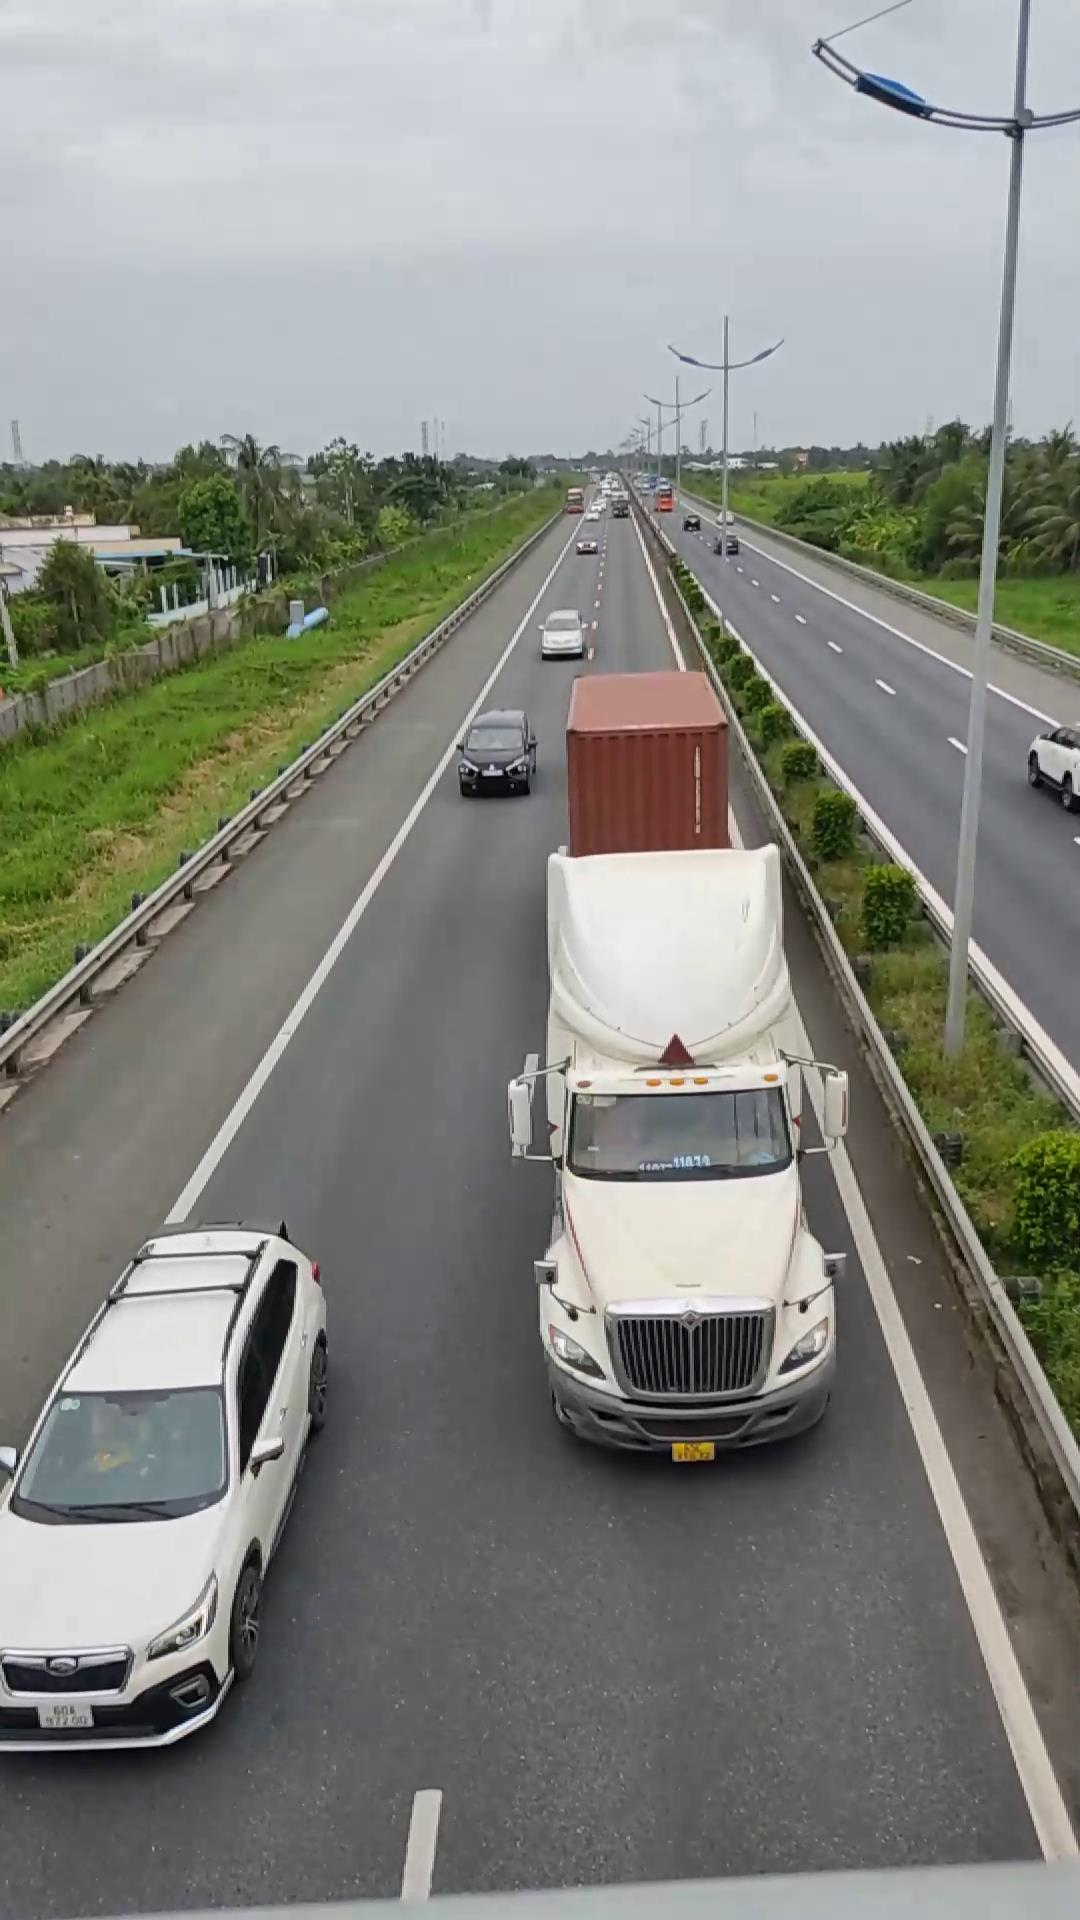car: (0, 1218, 334, 1746), (455, 707, 539, 795)
container: (510, 666, 840, 1460)
